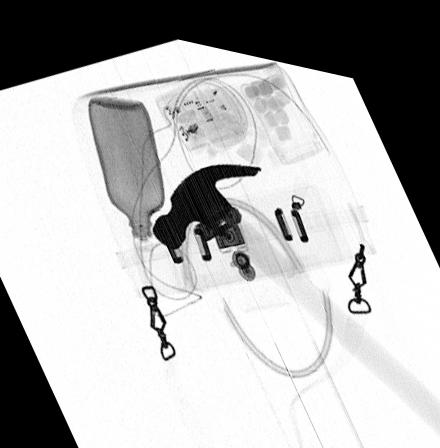Hammer: (152, 152, 440, 416)
